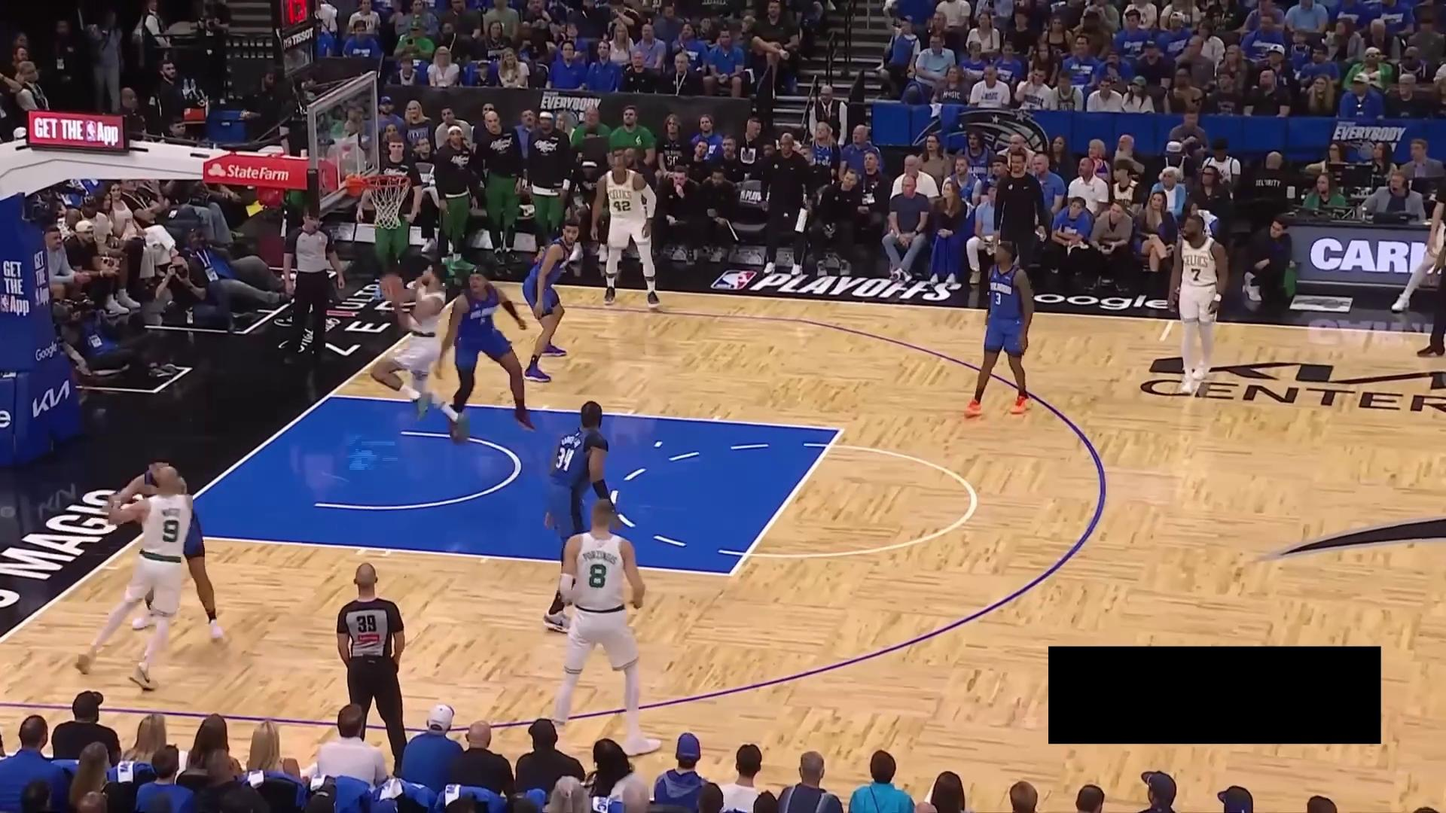ball: (379, 273, 404, 299)
number: (553, 445, 576, 472), (587, 562, 606, 590), (161, 518, 182, 543), (613, 200, 631, 212), (1191, 268, 1201, 281), (995, 292, 1002, 306)
player: (549, 501, 664, 759), (70, 465, 199, 690), (103, 452, 227, 645), (537, 397, 623, 635), (433, 269, 536, 443), (961, 240, 1040, 417), (587, 146, 665, 310), (1165, 211, 1234, 396), (515, 215, 585, 384), (1416, 220, 1446, 360)
player-layup-dunk: (367, 257, 474, 444)
referee: (335, 562, 412, 780), (276, 204, 351, 368)
rim: (361, 173, 414, 192)
